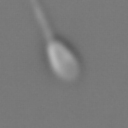normal: (23, 1, 56, 41)
